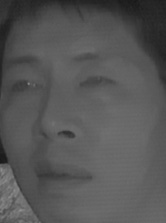eye: (77, 72, 117, 95), (6, 76, 43, 98)
mouth: (30, 157, 97, 195)
